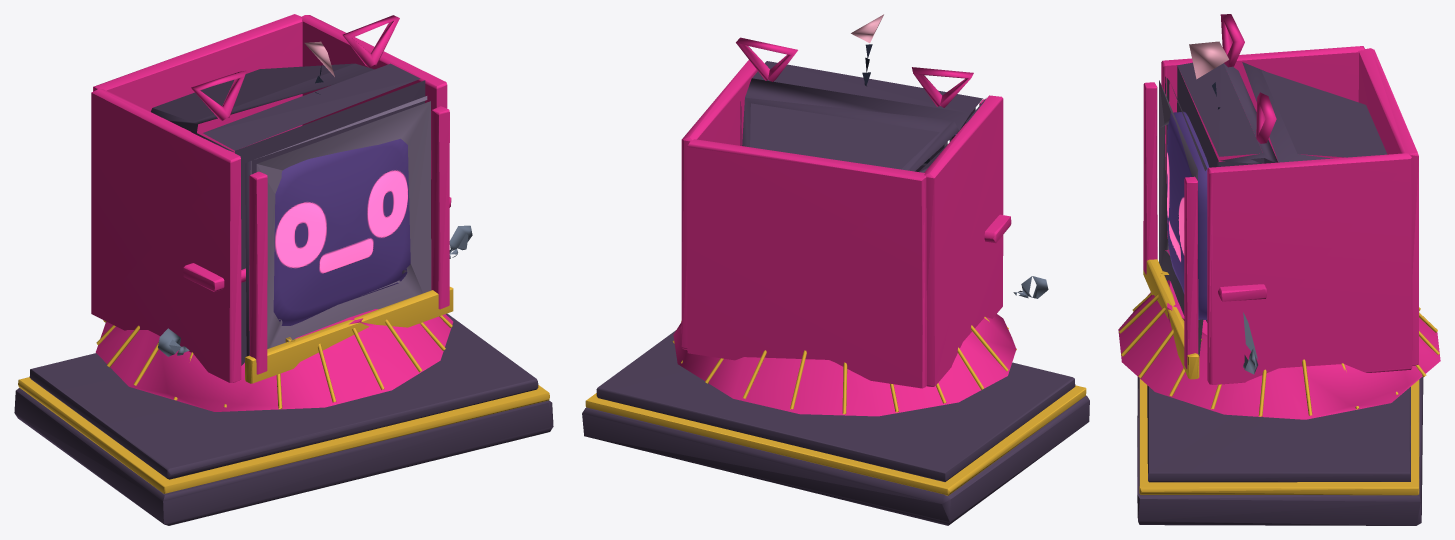
File: kart.outfit.ballerina.lod1.glb
3 renders of one model, left to right at view 1: azimuth 30°, elevation 25°; view 2: azimuth 150°, elevation 25°; view 3: azimuth 270°, elevation 25°, orthographic. The views are drawn at different scales.
Visible parts, largest first — view 1: jacket_side.001, emi_teacup_mesh, display_top, stand_identity_face, display_base, pleated_tutu, jacket_back, brass_band, waist_band, jacket_side, front_open_edge.001, front_open_edge (+3 smaller); view 2: jacket_back, display_top, emi_teacup_mesh, jacket_side.001, display_base, pleated_tutu, brass_band, jacket_side, hair_bow, hair_bow.001; view 3: jacket_side, display_top, emi_teacup_mesh, pleated_tutu, display_base, jacket_side.001, brass_band, stand_identity_face, jacket_back, front_open_edge.001, front_open_edge, waist_band (+3 smaller).
Boxes of the visible parts, x1,y1,x2,y2 form: jacket_side.001: [91, 89, 241, 382]; emi_teacup_mesh: [151, 41, 472, 365]; display_top: [29, 313, 538, 479]; stand_identity_face: [273, 138, 410, 325]; display_base: [14, 388, 553, 525]; pleated_tutu: [95, 309, 453, 411]; jacket_back: [93, 14, 302, 153]; brass_band: [18, 377, 549, 493]; waist_band: [245, 287, 453, 383]; jacket_side: [300, 15, 447, 289]; front_open_edge.001: [249, 171, 267, 374]; front_open_edge: [431, 106, 449, 309]; jacket_back: [687, 139, 926, 388]; display_top: [596, 330, 1075, 481]; emi_teacup_mesh: [740, 14, 1048, 298]; jacket_side.001: [924, 95, 1003, 386]; display_base: [582, 395, 1089, 525]; pleated_tutu: [673, 314, 1016, 416]; brass_band: [585, 385, 1086, 495]; jacket_side: [681, 60, 757, 350]; hair_bow: [736, 37, 797, 81]; hair_bow.001: [912, 67, 973, 107]; jacket_side: [1207, 153, 1412, 384]; display_top: [1147, 385, 1410, 482]; emi_teacup_mesh: [1159, 41, 1387, 374]; pleated_tutu: [1118, 280, 1440, 419]; display_base: [1137, 376, 1423, 525]; jacket_side.001: [1161, 46, 1364, 255]; brass_band: [1139, 311, 1419, 495]; stand_identity_face: [1167, 111, 1209, 319]; jacket_back: [1358, 48, 1418, 365]; front_open_edge.001: [1143, 82, 1157, 274]; front_open_edge: [1184, 176, 1198, 368]; waist_band: [1143, 259, 1199, 379].
Bounding box in the file's own units: 0.642 × 0.6442 × 0.4819.
4 materials, 2 textured.
